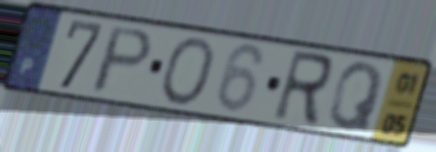6: (212, 41, 270, 119)
7: (58, 17, 105, 91)
O: (158, 35, 218, 109)
P: (87, 24, 157, 97)
Q: (325, 60, 387, 135)
R: (268, 48, 337, 130)
